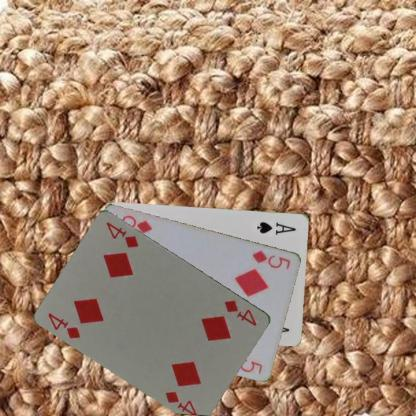4d: (222, 297, 258, 328), (46, 310, 82, 340)
5d: (249, 247, 292, 271)
As: (254, 219, 298, 235)
